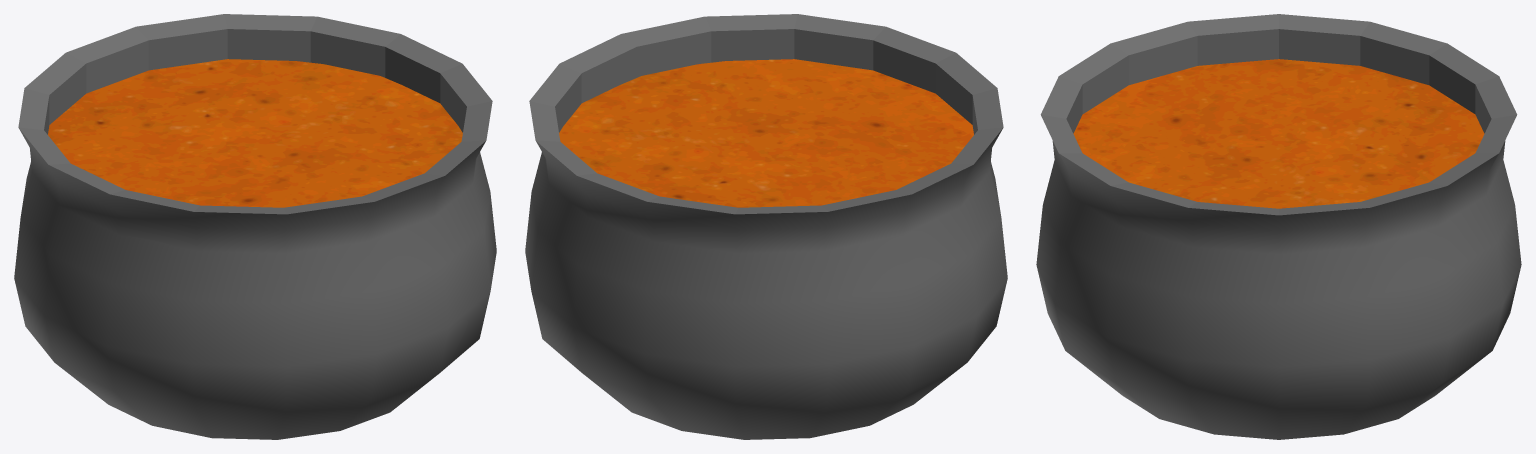
File: tomato_Soup.fbx
3 renders of one model, left to right at view 1: azimuth 30°, elevation 25°; view 2: azimuth 150°, elevation 25°; view 3: azimuth 270°, elevation 25°, orthographic.
Parts seen in each view (by area): view 1: pDisc3; view 2: pDisc3; view 3: pDisc3.
Part boxes in pixels (left/top/right/bottom): pDisc3: left=14, top=14, right=496, bottom=439; pDisc3: left=525, top=14, right=1007, bottom=439; pDisc3: left=1036, top=14, right=1521, bottom=439.
Size of the model in its own units: 1.7 by 0.9824 by 1.7.
2 materials, 1 textured.
